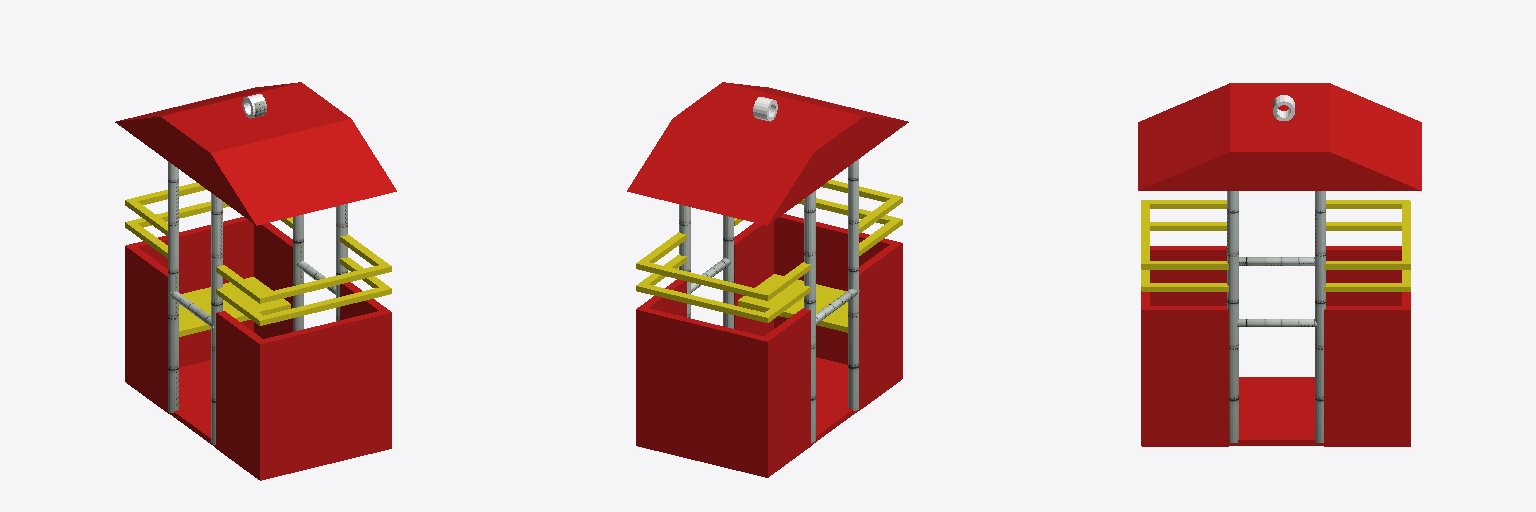
3 renders of one model, left to right at view 1: azimuth 30°, elevation 25°; view 2: azimuth 150°, elevation 25°; view 3: azimuth 270°, elevation 25°, orthographic.
Parts seen in each view (by area): view 1: cabine20:group8 cabine20:pasted__pCube2 cabine20:polySurface1 pa, cabine20:group1 cabine20:pasted__pCube1 cabine20:polySurface1 pa, cabine20:group6 cabine20:pasted__pCube1 cabine20:polySurface1 pa, cabine20:group7 cabine20:pasted__group6 cabine20:pasted__pasted_, cabine20:group2 cabine20:pasted__group1 cabine20:pasted__pasted_, cabine20:group7 cabine20:pasted__pCube1 cabine20:polySurface1 pa, cabine20:group4 cabine20:pasted__group3 cabine20:pasted__pasted_, cabine20:group13 cabine20:pasted__group11 cabine20:pasted__group, cabine20:pCube2 cabine20:polySurface1 pasted__pasted__pasted__gr, cabine20:group10 cabine20:pasted__group9 cabine20:pasted__pasted, cabine20:group4 cabine20:pasted__pCylinder1 cabine20:polySurface, cabine20:group11 cabine20:group12 cabine20:pasted__group1 cabine (+6 smaller); view 2: cabine20:group8 cabine20:pasted__pCube2 cabine20:polySurface1 pa, cabine20:group2 cabine20:pasted__group1 cabine20:pasted__pasted_, cabine20:group7 cabine20:pasted__group6 cabine20:pasted__pasted_, cabine20:group6 cabine20:pasted__pCube1 cabine20:polySurface1 pa, cabine20:group1 cabine20:pasted__pCube1 cabine20:polySurface1 pa, cabine20:pCube1 cabine20:polySurface1 pasted__pasted__pasted__gr, cabine20:group4 cabine20:pasted__pCylinder1 cabine20:polySurface, cabine20:group14 cabine20:pasted__group13 cabine20:pasted__paste, cabine20:pCube2 cabine20:polySurface1 pasted__pasted__pasted__gr, cabine20:group14 cabine20:pasted__group11 cabine20:pasted__group, cabine20:group9 cabine20:pasted__pCube2 cabine20:polySurface1 pa, cabine20:group4 cabine20:pasted__group3 cabine20:pasted__pasted_ (+5 smaller); view 3: cabine20:group8 cabine20:pasted__pCube2 cabine20:polySurface1 pa, cabine20:group7 cabine20:pasted__pCube1 cabine20:polySurface1 pa, cabine20:pCube1 cabine20:polySurface1 pasted__pasted__pasted__gr, cabine20:pCube2 cabine20:polySurface1 pasted__pasted__pasted__gr, cabine20:group6 cabine20:pasted__pCube1 cabine20:polySurface1 pa, cabine20:group7 cabine20:pasted__group6 cabine20:pasted__pasted_, cabine20:pCylinder1 cabine20:polySurface1 pasted__pasted__pasted, cabine20:group3 cabine20:pasted__pCylinder1 cabine20:polySurface, cabine20:group13 cabine20:pasted__group11 cabine20:pasted__group, cabine20:group14 cabine20:pasted__group13 cabine20:pasted__paste, cabine20:group14 cabine20:pasted__group11 cabine20:pasted__group, cabine20:group11 cabine20:group12 cabine20:pasted__pCube1 cabine (+3 smaller).
Part boxes in pixels (bbox=[...]): cabine20:group8 cabine20:pasted__pCube2 cabine20:polySurface1 pa: bbox=[115, 82, 396, 225]; cabine20:group1 cabine20:pasted__pCube1 cabine20:polySurface1 pa: bbox=[259, 309, 390, 480]; cabine20:group6 cabine20:pasted__pCube1 cabine20:polySurface1 pa: bbox=[216, 311, 264, 479]; cabine20:group7 cabine20:pasted__group6 cabine20:pasted__pasted_: bbox=[125, 245, 169, 413]; cabine20:group2 cabine20:pasted__group1 cabine20:pasted__pasted_: bbox=[126, 217, 253, 367]; cabine20:group7 cabine20:pasted__pCube1 cabine20:polySurface1 pa: bbox=[254, 223, 292, 338]; cabine20:group4 cabine20:pasted__group3 cabine20:pasted__pasted_: bbox=[168, 161, 178, 412]; cabine20:group13 cabine20:pasted__group11 cabine20:pasted__group: bbox=[216, 234, 391, 303]; cabine20:pCube2 cabine20:polySurface1 pasted__pasted__pasted__gr: bbox=[170, 360, 380, 473]; cabine20:group10 cabine20:pasted__group9 cabine20:pasted__pasted: bbox=[179, 277, 290, 336]; cabine20:group4 cabine20:pasted__pCylinder1 cabine20:polySurface: bbox=[211, 193, 222, 444]; cabine20:group11 cabine20:group12 cabine20:pasted__group1 cabine: bbox=[256, 286, 390, 325]; cabine20:group8 cabine20:pasted__pCube2 cabine20:polySurface1 pa: bbox=[627, 82, 908, 225]; cabine20:group2 cabine20:pasted__group1 cabine20:pasted__pasted_: bbox=[636, 306, 770, 477]; cabine20:group7 cabine20:pasted__group6 cabine20:pasted__pasted_: bbox=[765, 308, 811, 477]; cabine20:group6 cabine20:pasted__pCube1 cabine20:polySurface1 pa: bbox=[858, 243, 902, 410]; cabine20:group1 cabine20:pasted__pCube1 cabine20:polySurface1 pa: bbox=[774, 214, 901, 364]; cabine20:pCube1 cabine20:polySurface1 pasted__pasted__pasted__gr: bbox=[734, 221, 773, 335]; cabine20:group4 cabine20:pasted__pCylinder1 cabine20:polySurface: bbox=[848, 159, 858, 410]; cabine20:group14 cabine20:pasted__group13 cabine20:pasted__paste: bbox=[636, 232, 810, 300]; cabine20:pCube2 cabine20:polySurface1 pasted__pasted__pasted__gr: bbox=[812, 357, 857, 444]; cabine20:group14 cabine20:pasted__group11 cabine20:pasted__group: bbox=[636, 254, 810, 322]; cabine20:group9 cabine20:pasted__pCube2 cabine20:polySurface1 pa: bbox=[738, 274, 847, 332]; cabine20:group4 cabine20:pasted__group3 cabine20:pasted__pasted_: bbox=[804, 191, 815, 442]; cabine20:group8 cabine20:pasted__pCube2 cabine20:polySurface1 pa: bbox=[1138, 83, 1421, 190]; cabine20:group7 cabine20:pasted__pCube1 cabine20:polySurface1 pa: bbox=[1324, 306, 1410, 446]; cabine20:pCube1 cabine20:polySurface1 pasted__pasted__pasted__gr: bbox=[1142, 306, 1228, 446]; cabine20:pCube2 cabine20:polySurface1 pasted__pasted__pasted__gr: bbox=[1229, 377, 1323, 445]; cabine20:group6 cabine20:pasted__pCube1 cabine20:polySurface1 pa: bbox=[1150, 246, 1226, 305]; cabine20:group7 cabine20:pasted__group6 cabine20:pasted__pasted_: bbox=[1326, 246, 1401, 305]; cabine20:pCylinder1 cabine20:polySurface1 pasted__pasted__pasted: bbox=[1227, 191, 1238, 442]; cabine20:group3 cabine20:pasted__pCylinder1 cabine20:polySurface: bbox=[1315, 191, 1325, 442]; cabine20:group13 cabine20:pasted__group11 cabine20:pasted__group: bbox=[1141, 200, 1228, 269]; cabine20:group14 cabine20:pasted__group13 cabine20:pasted__paste: bbox=[1324, 200, 1410, 269]; cabine20:group14 cabine20:pasted__group11 cabine20:pasted__group: bbox=[1324, 222, 1410, 291]; cabine20:group11 cabine20:group12 cabine20:pasted__pCube1 cabine: bbox=[1142, 283, 1228, 291].
Size of the model in its own units: 1.04 by 2.24 by 1.82.
3 materials, 3 textured.